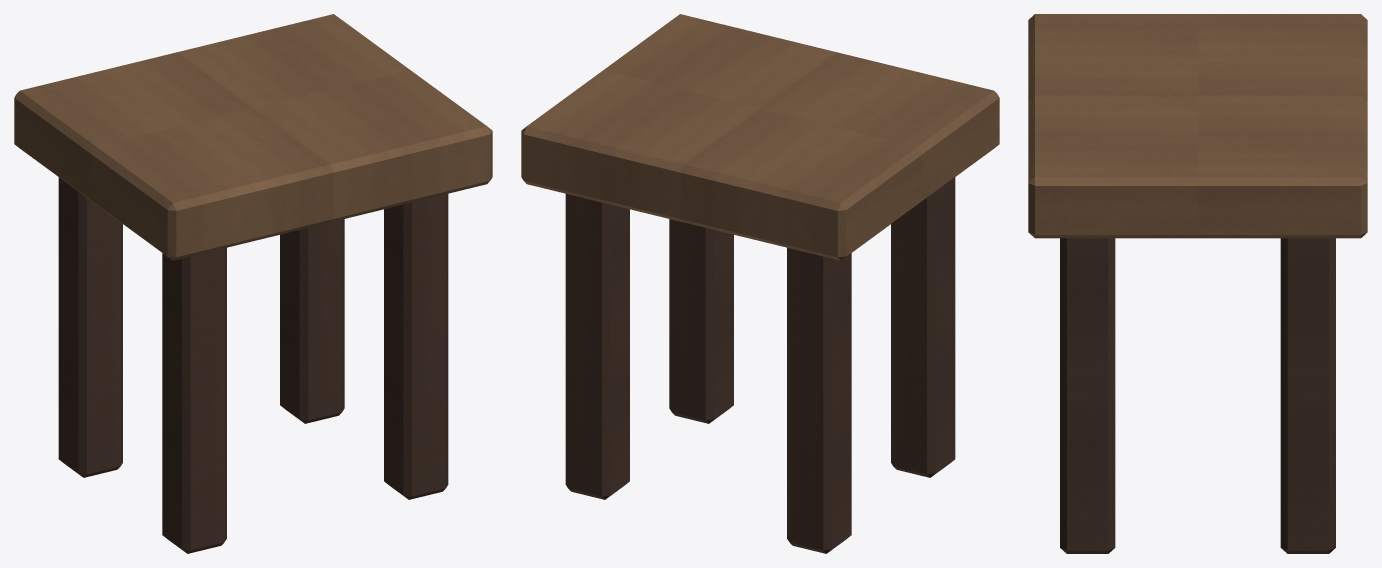
The model's file is reading_stool.glb.
The picture shows the model from 3 angles, left to right: view 1: azimuth 30°, elevation 25°; view 2: azimuth 150°, elevation 25°; view 3: azimuth 270°, elevation 25°; orthographic projection. The views are drawn at different scales.
Parts seen in each view (by area): view 1: Scripture_CarvedWood, Scripture_Timber; view 2: Scripture_CarvedWood, Scripture_Timber; view 3: Scripture_CarvedWood, Scripture_Timber.
Boxes of the visible parts, x1,y1,x2,y2 form: Scripture_CarvedWood: (14, 14, 492, 260); Scripture_Timber: (58, 177, 448, 553); Scripture_CarvedWood: (521, 14, 999, 260); Scripture_Timber: (565, 177, 955, 553); Scripture_CarvedWood: (1028, 14, 1367, 238); Scripture_Timber: (1060, 238, 1335, 553).
Bounding box in the file's own units: 0.47 × 0.51 × 0.4.
2 materials, 2 textured.
